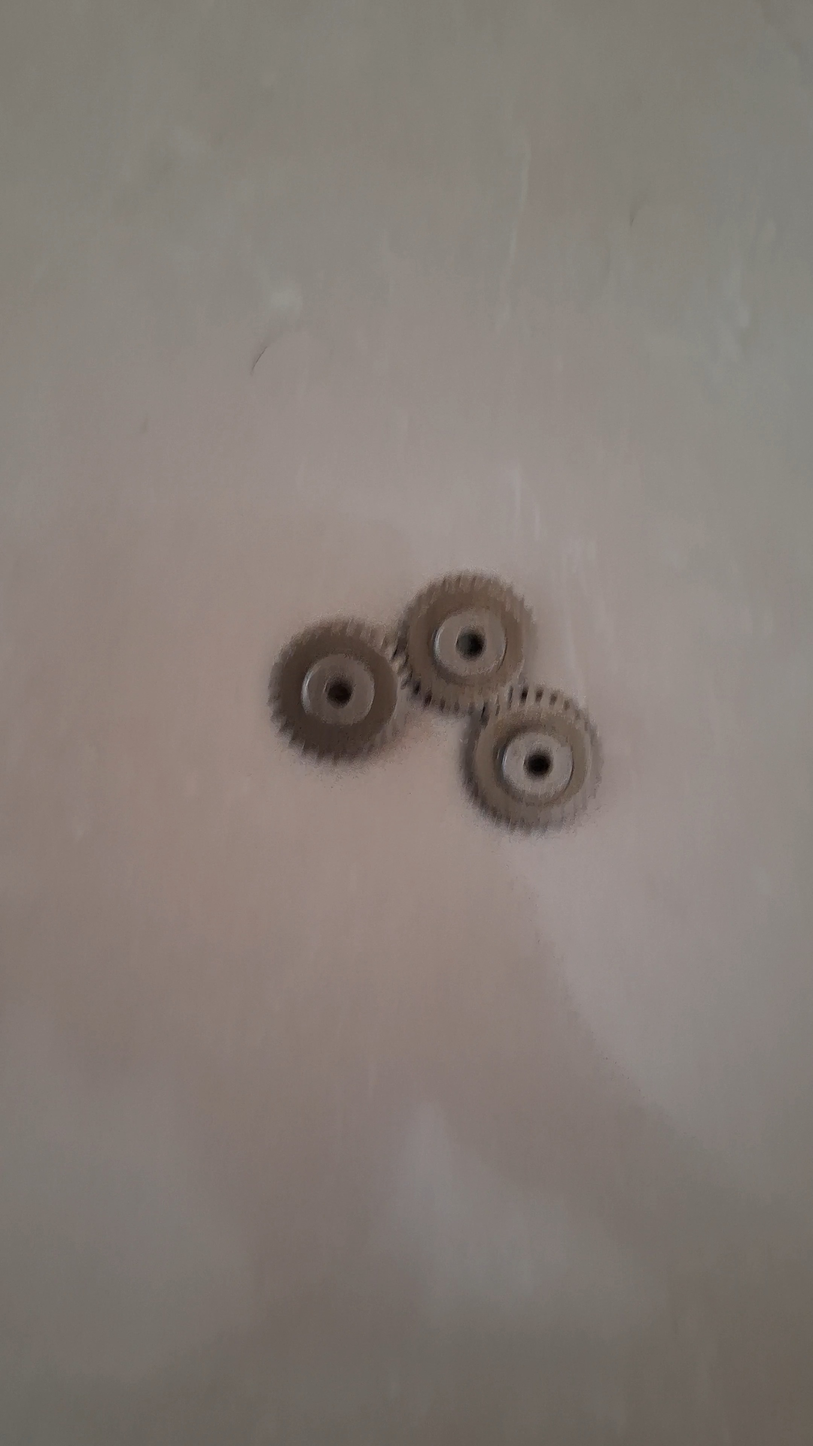spur gear: (269, 619, 408, 760), (465, 685, 600, 830), (400, 574, 531, 712)
